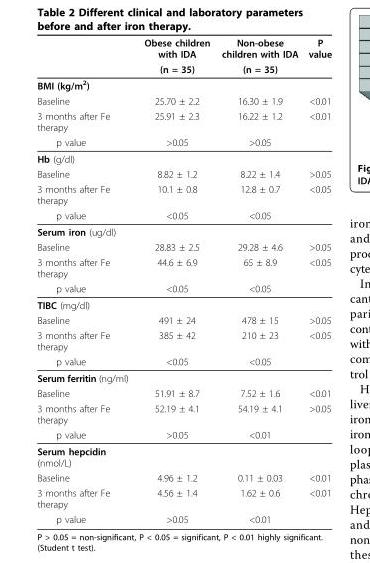table: (36, 36, 331, 524)
table column: (36, 36, 135, 524), (215, 36, 302, 524), (135, 36, 215, 524), (302, 36, 331, 524)
table column header: (36, 36, 331, 76)
table projected row header: (36, 442, 331, 469), (36, 76, 331, 93), (36, 150, 331, 166), (36, 223, 331, 239), (36, 296, 331, 312), (36, 369, 331, 385)
table row: (36, 442, 331, 469), (36, 484, 331, 511), (36, 108, 331, 134), (36, 181, 331, 207), (36, 254, 331, 280), (36, 327, 331, 353), (36, 400, 331, 426), (36, 36, 331, 61), (36, 76, 331, 93), (36, 134, 331, 150), (36, 150, 331, 166), (36, 207, 331, 223), (36, 223, 331, 239), (36, 280, 331, 296), (36, 296, 331, 312), (36, 353, 331, 369), (36, 369, 331, 385), (36, 426, 331, 442), (36, 61, 331, 76), (36, 93, 331, 108), (36, 166, 331, 181), (36, 239, 331, 254), (36, 312, 331, 327), (36, 385, 331, 400), (36, 469, 331, 484), (36, 511, 331, 524)
table spanning cell: (215, 36, 302, 76), (135, 36, 215, 76), (302, 36, 331, 76)
